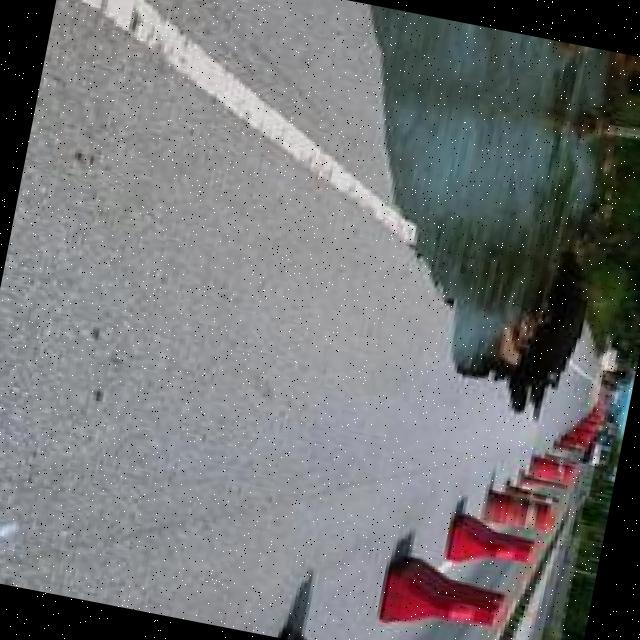road collapse: (246, 0, 640, 459)
